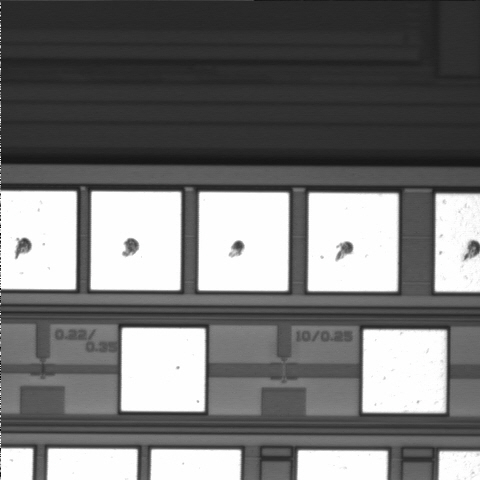pad: (198, 192, 289, 291), (91, 192, 181, 290), (308, 193, 398, 291), (121, 328, 205, 411), (363, 330, 446, 413)
